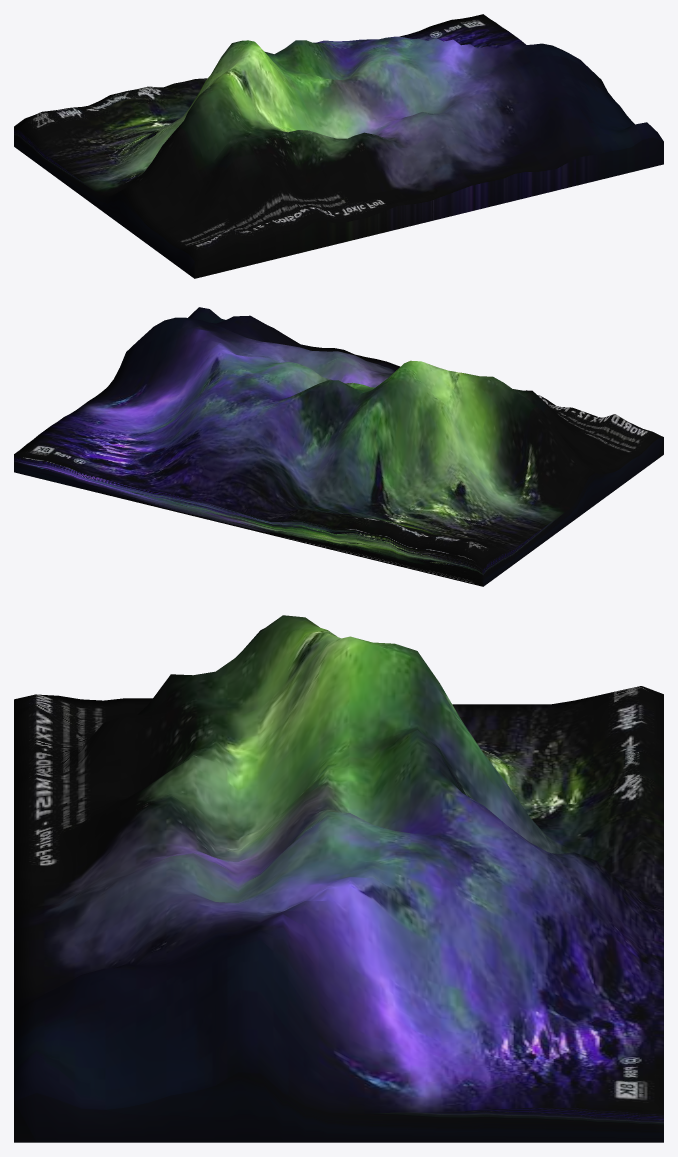
File: WORLD_VFX_12_Poison_Mist.glb
3 views of the same model, one above another, from view 1: azimuth 30°, elevation 25°; view 2: azimuth 150°, elevation 25°; view 3: azimuth 270°, elevation 25° (orthographic). The views are drawn at different scales.
Visible parts, largest first — view 1: WORLD_VFX_12_Poison_Mist; view 2: WORLD_VFX_12_Poison_Mist; view 3: WORLD_VFX_12_Poison_Mist.
Boxes of the visible parts, left/top/right/bottom form: WORLD_VFX_12_Poison_Mist: left=14, top=14, right=663, bottom=278; WORLD_VFX_12_Poison_Mist: left=14, top=307, right=663, bottom=586; WORLD_VFX_12_Poison_Mist: left=14, top=615, right=663, bottom=1142.
Bounding box in the file's own units: 2 × 0.51 × 1.33.
Materials: 1 (1 with a texture image).
